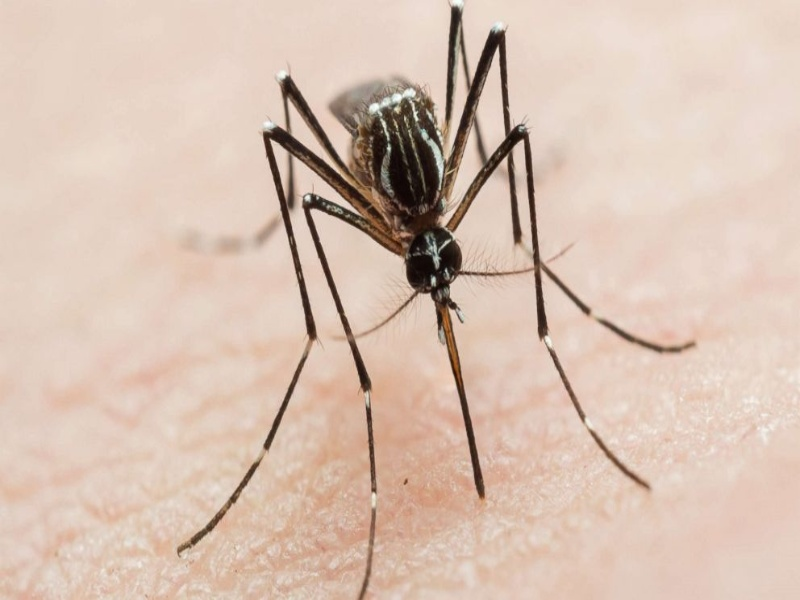dengue_mosquito: (260, 2, 560, 394)
